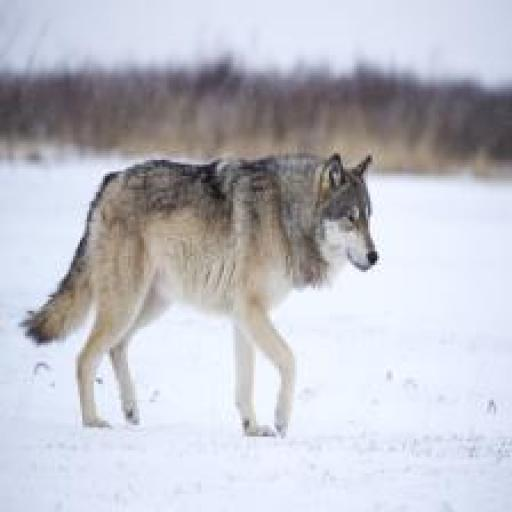wolf: (23, 126, 393, 452)
